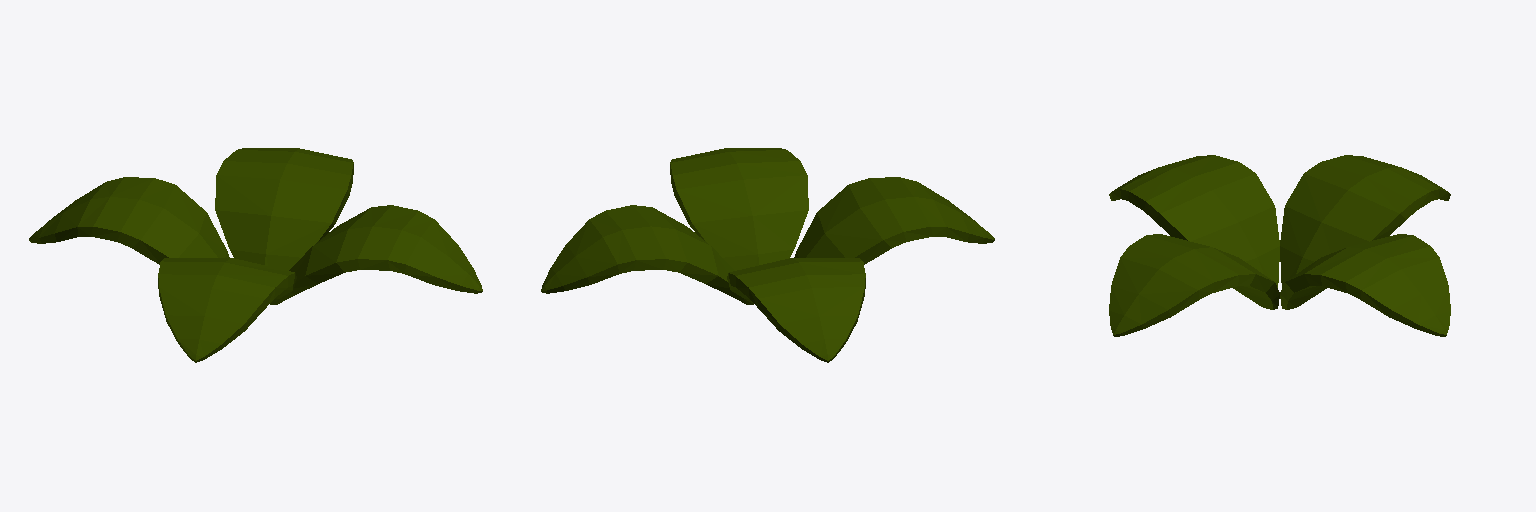
Rendered from Plant_Small.obj.
3 renders of one model, left to right at view 1: azimuth 30°, elevation 25°; view 2: azimuth 150°, elevation 25°; view 3: azimuth 270°, elevation 25°, orthographic.
Parts seen in each view (by area): view 1: Plant_Small_Cube.265; view 2: Plant_Small_Cube.265; view 3: Plant_Small_Cube.265.
Part boxes in pixels (left/top/right/bottom): Plant_Small_Cube.265: left=29, top=148, right=482, bottom=362; Plant_Small_Cube.265: left=541, top=148, right=994, bottom=362; Plant_Small_Cube.265: left=1109, top=155, right=1450, bottom=336.
Bounding box in the file's own units: 1.03 × 0.2867 × 1.03.